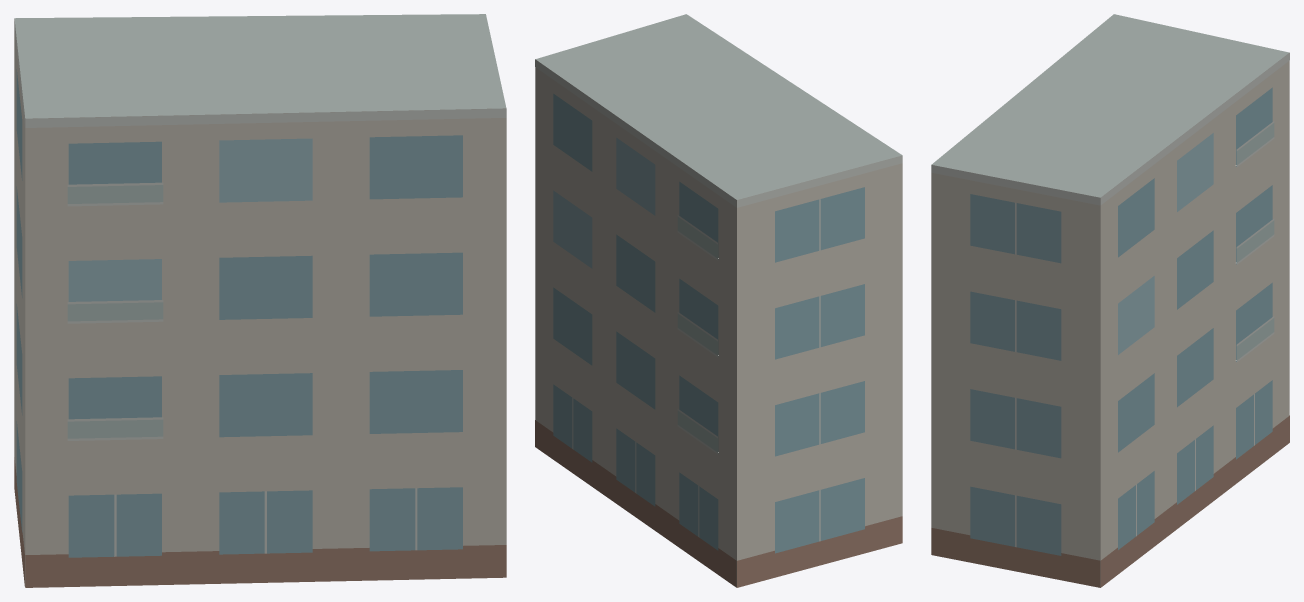
Rendered from survey-upis-32726310.glb.
3 renders of one model, left to right at view 1: azimuth 30°, elevation 25°; view 2: azimuth 150°, elevation 25°; view 3: azimuth 270°, elevation 25°, orthographic. The views are drawn at different scales.
Parts seen in each view (by area): view 1: survey-upis-32726310.tmp; view 2: survey-upis-32726310.tmp; view 3: survey-upis-32726310.tmp.
Part boxes in pixels (x1,y1,x2,y2): survey-upis-32726310.tmp: (14, 14, 506, 587); survey-upis-32726310.tmp: (535, 14, 902, 587); survey-upis-32726310.tmp: (931, 14, 1289, 587).
Bounding box in the file's own units: 12.23 × 12.1 × 10.08.
